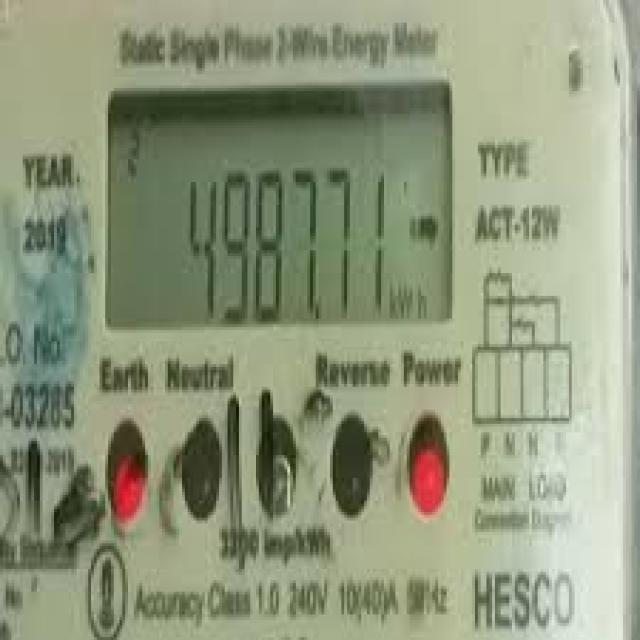.: (312, 304, 326, 320)
1: (364, 166, 391, 320)
4: (180, 168, 219, 326)
7: (326, 166, 358, 323), (290, 167, 322, 321)
8: (255, 166, 287, 325)
9: (220, 166, 253, 324)
Digital meter: (108, 82, 450, 327)
